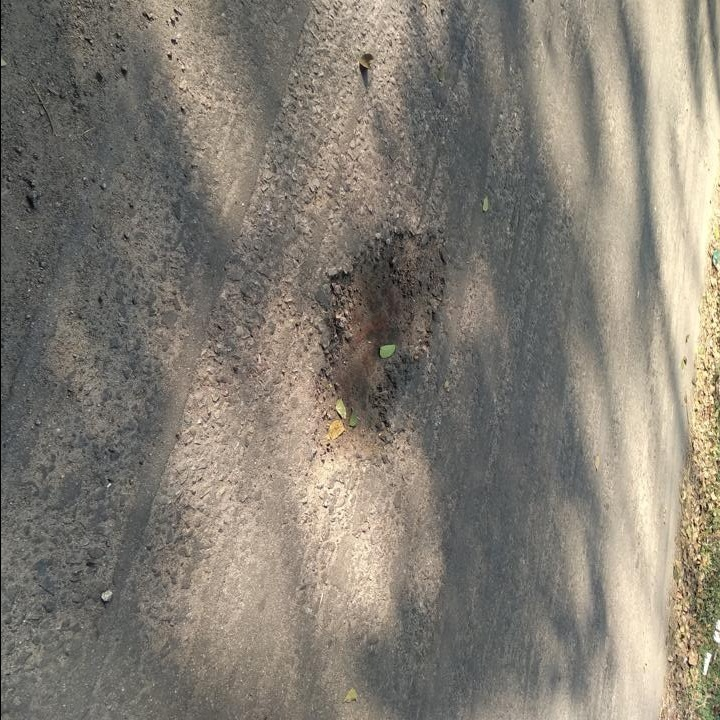pothole: (306, 220, 451, 470)
